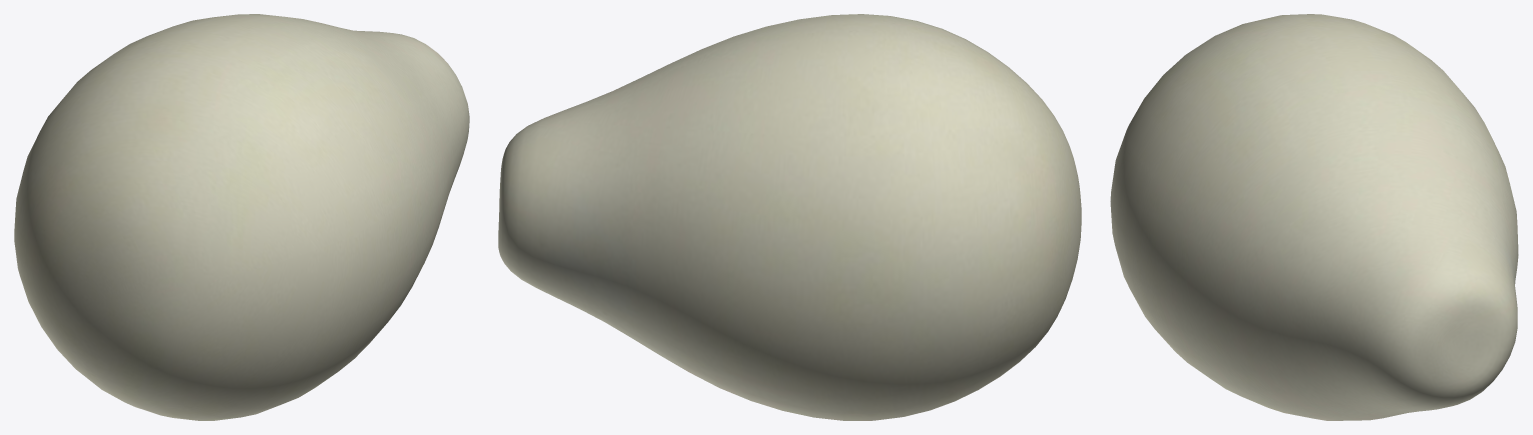
Rendered from DarkBrownAvocadoFlesh.obj.
3 views of the same model, side by side, from view 1: azimuth 30°, elevation 25°; view 2: azimuth 150°, elevation 25°; view 3: azimuth 270°, elevation 25° (orthographic). The views are drawn at different scales.
Visible parts, largest first — view 1: DarkBrownAvocadoFlesh; view 2: DarkBrownAvocadoFlesh; view 3: DarkBrownAvocadoFlesh.
Part boxes in pixels (x1=…): DarkBrownAvocadoFlesh: x1=14, y1=14, x2=469, y2=420; DarkBrownAvocadoFlesh: x1=498, y1=14, x2=1081, y2=420; DarkBrownAvocadoFlesh: x1=1110, y1=14, x2=1518, y2=420.
Size of the model in its own units: 0.1044 by 0.0749 by 0.0774.
Materials: 1 (1 with a texture image).
